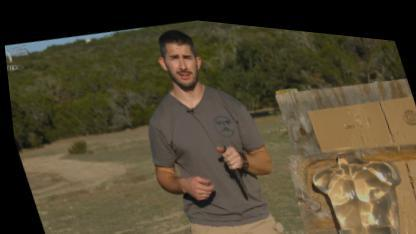knife: (208, 134, 249, 193)
